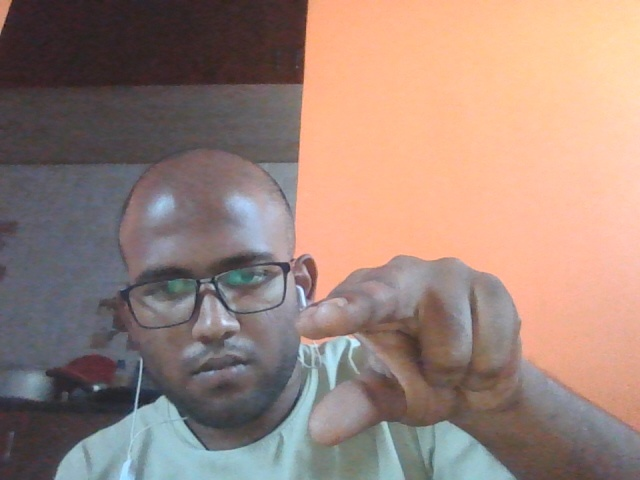no: (256, 220, 573, 464)
